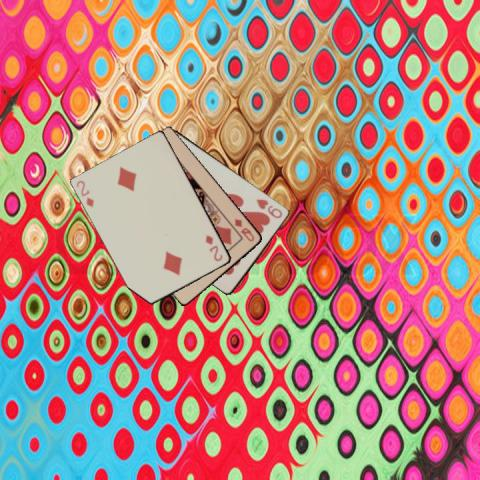2d: (74, 177, 96, 209), (203, 232, 224, 263)
9h: (253, 196, 284, 220)
Qd: (231, 216, 256, 244)
